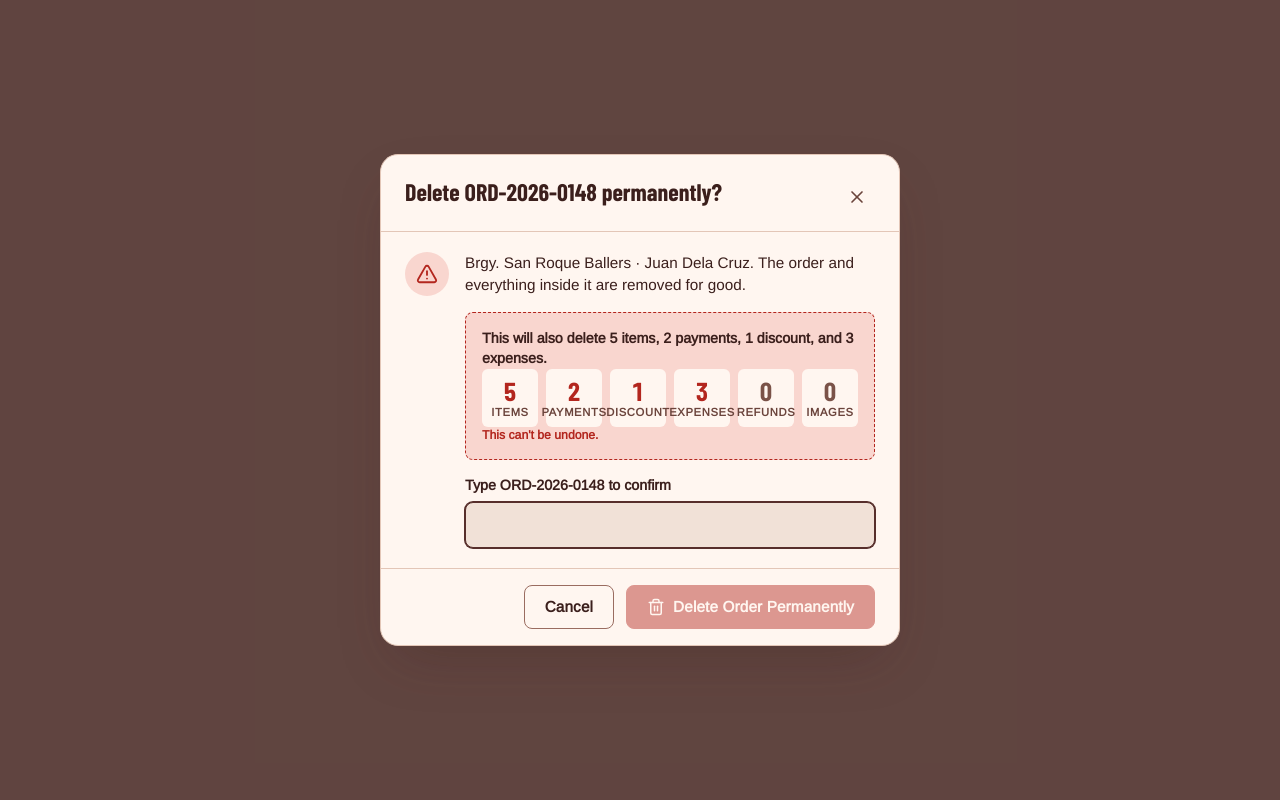
Test case: deleting for good › sends DELETE with confirm= and no Idempotency-Key, then reports, closes, toasts and reads the lists again
Check: the button "This will also delete 5 items, 2 payments, 1 discount, and 3 expenses." is shown, box [482,329,858,369]
Type "ORD-2026-0148" into the field labelled "Type ORD-2026-0148 to confirm" at (670, 525), box [466,503,874,547]
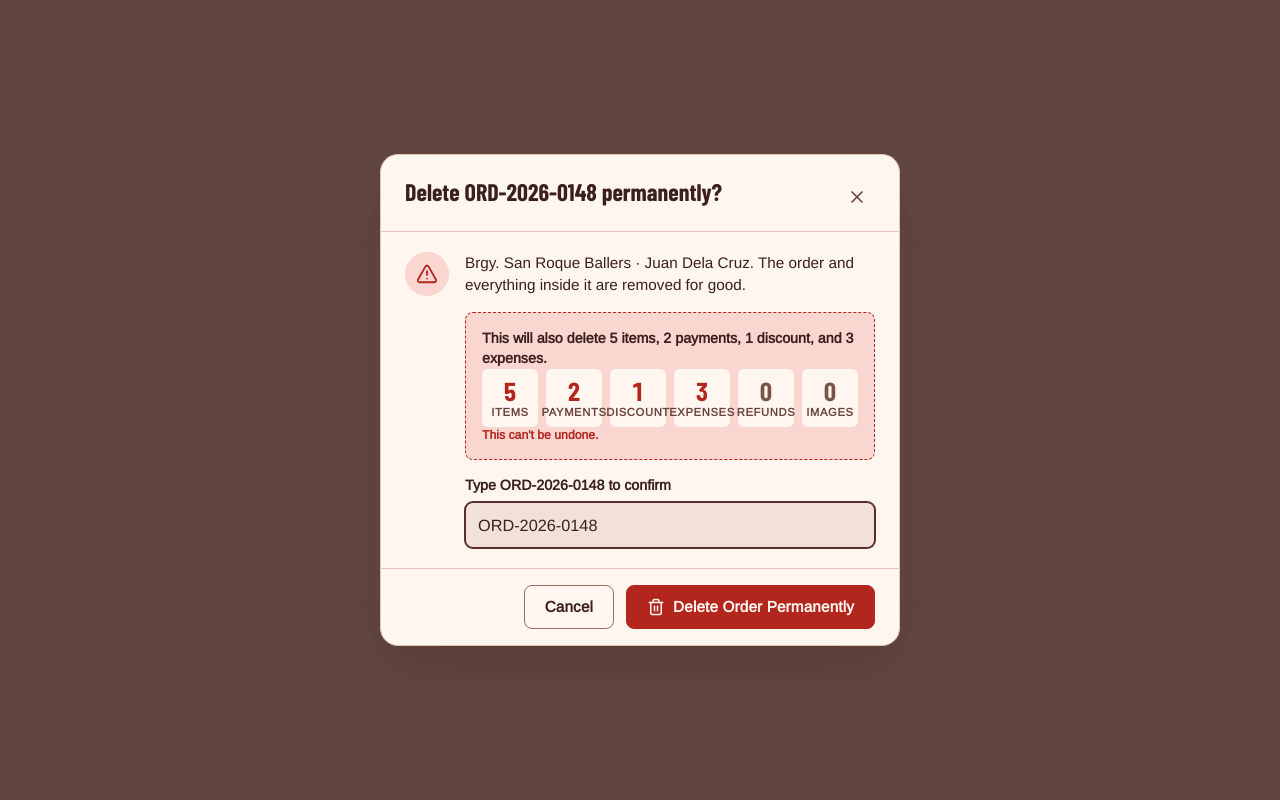
Click the button "Delete Order Permanently" at (751, 607), box [626,585,875,629]
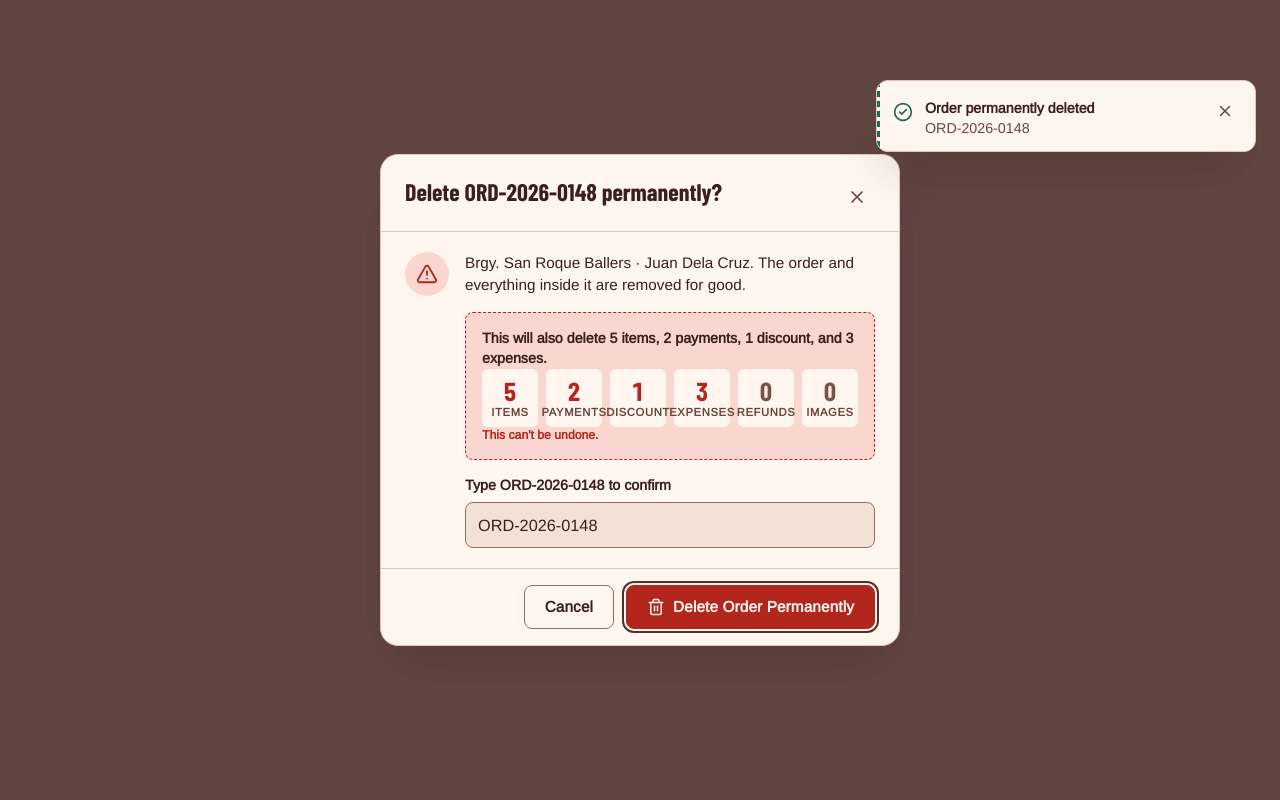
Check: the text "Order permanently deleted" is shown, box [925,101,1094,116]
